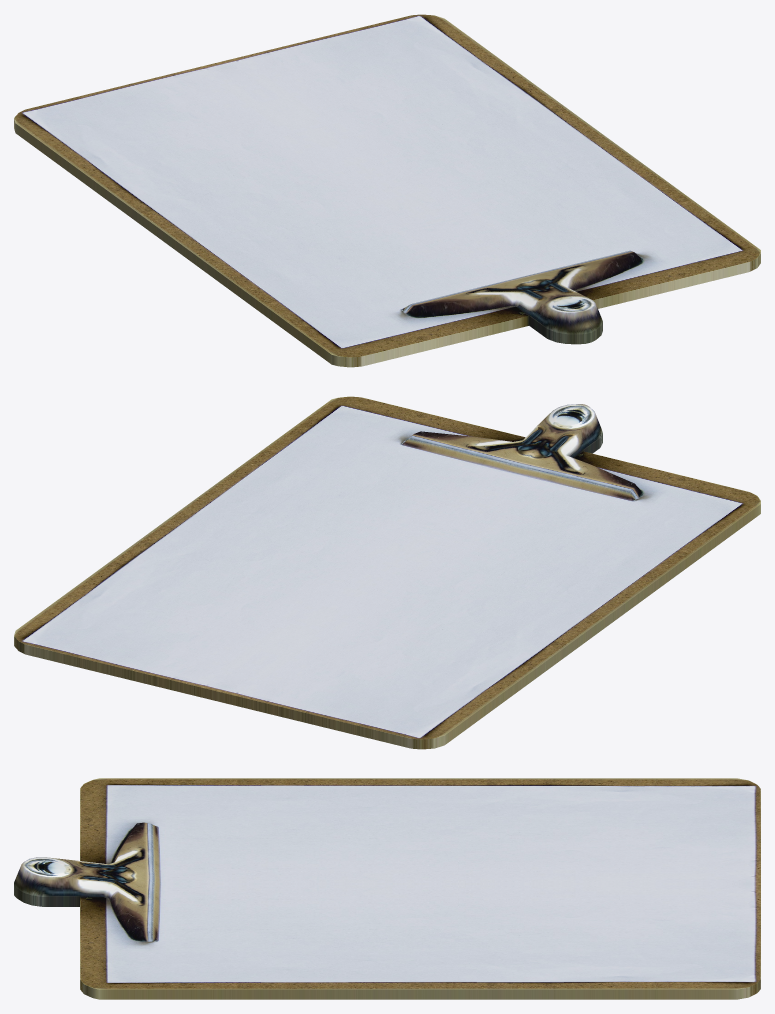
The model's file is ResearchNote.fbx.
3 renders of one model, top to bottom at view 1: azimuth 30°, elevation 25°; view 2: azimuth 150°, elevation 25°; view 3: azimuth 270°, elevation 25°, orthographic.
Visible parts, largest first — view 1: ResearchNote; view 2: ResearchNote; view 3: ResearchNote.
Boxes of the visible parts, x1,y1,x2,y2 form: ResearchNote: [14, 14, 760, 367]; ResearchNote: [14, 396, 760, 749]; ResearchNote: [14, 778, 760, 999].
Bounding box in the file's own units: 85.55 × 5.49 × 128.
1 material, 1 textured.
